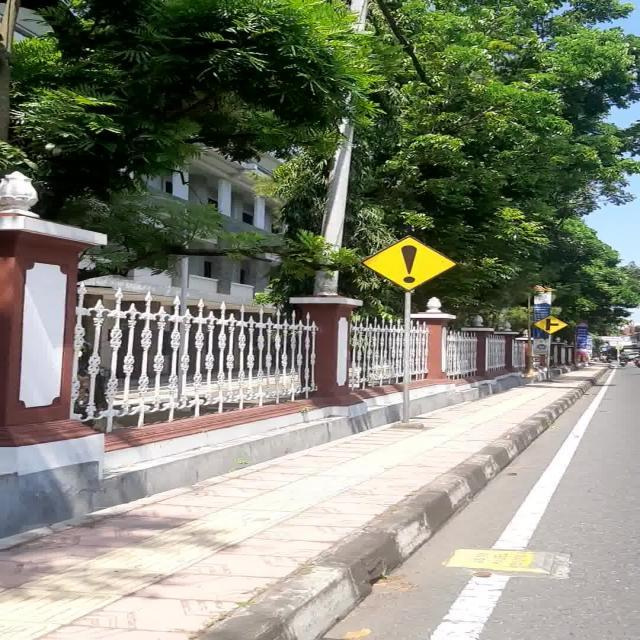Hati-Hati: (360, 234, 456, 292)
